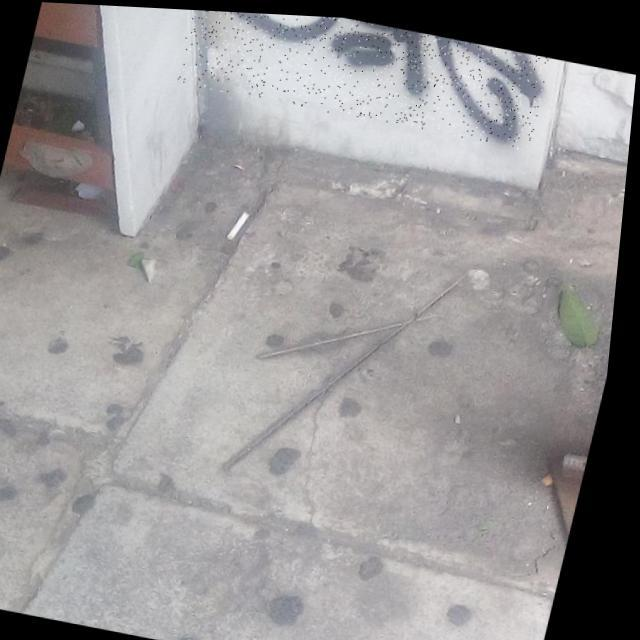-: (173, 8, 554, 146)
